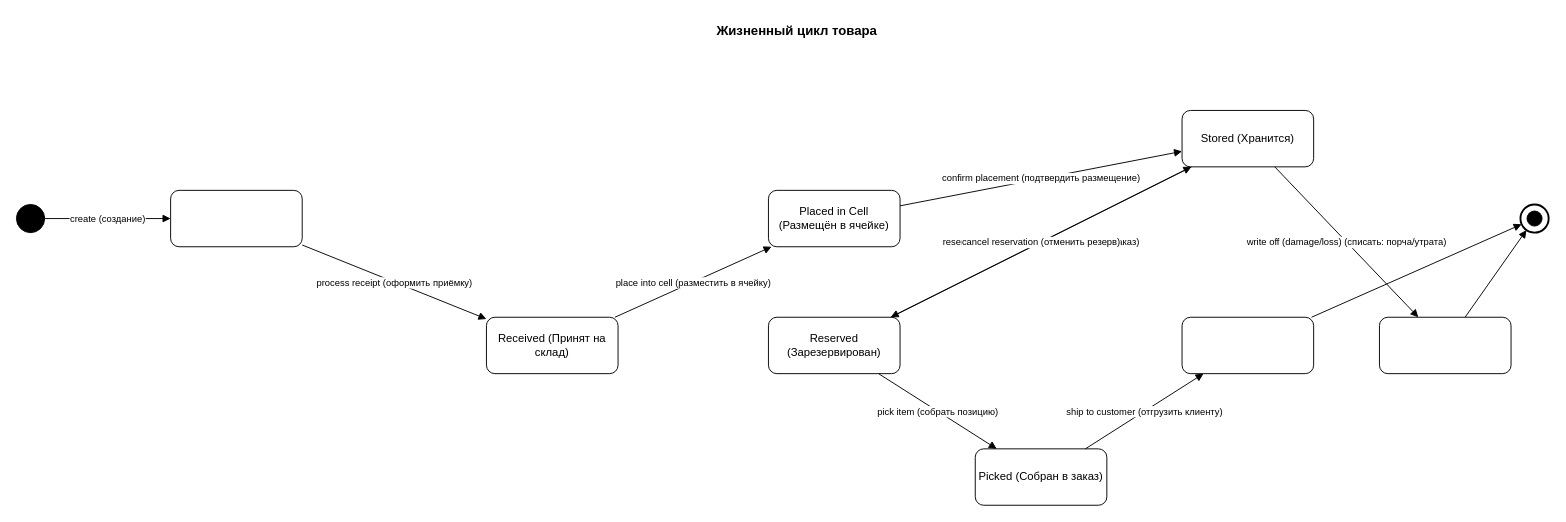
The diagram is 1566 pixels wide and 522 high, and some of its shapes have lost their labels. The centre of each missing label's shape, as x and y in pixels:
"Created (Создан)" belongs at pixel 236 218.
"Shipped (Отгружен)" belongs at pixel 1247 345.
"Written Off (Списан)" belongs at pixel 1445 345.
